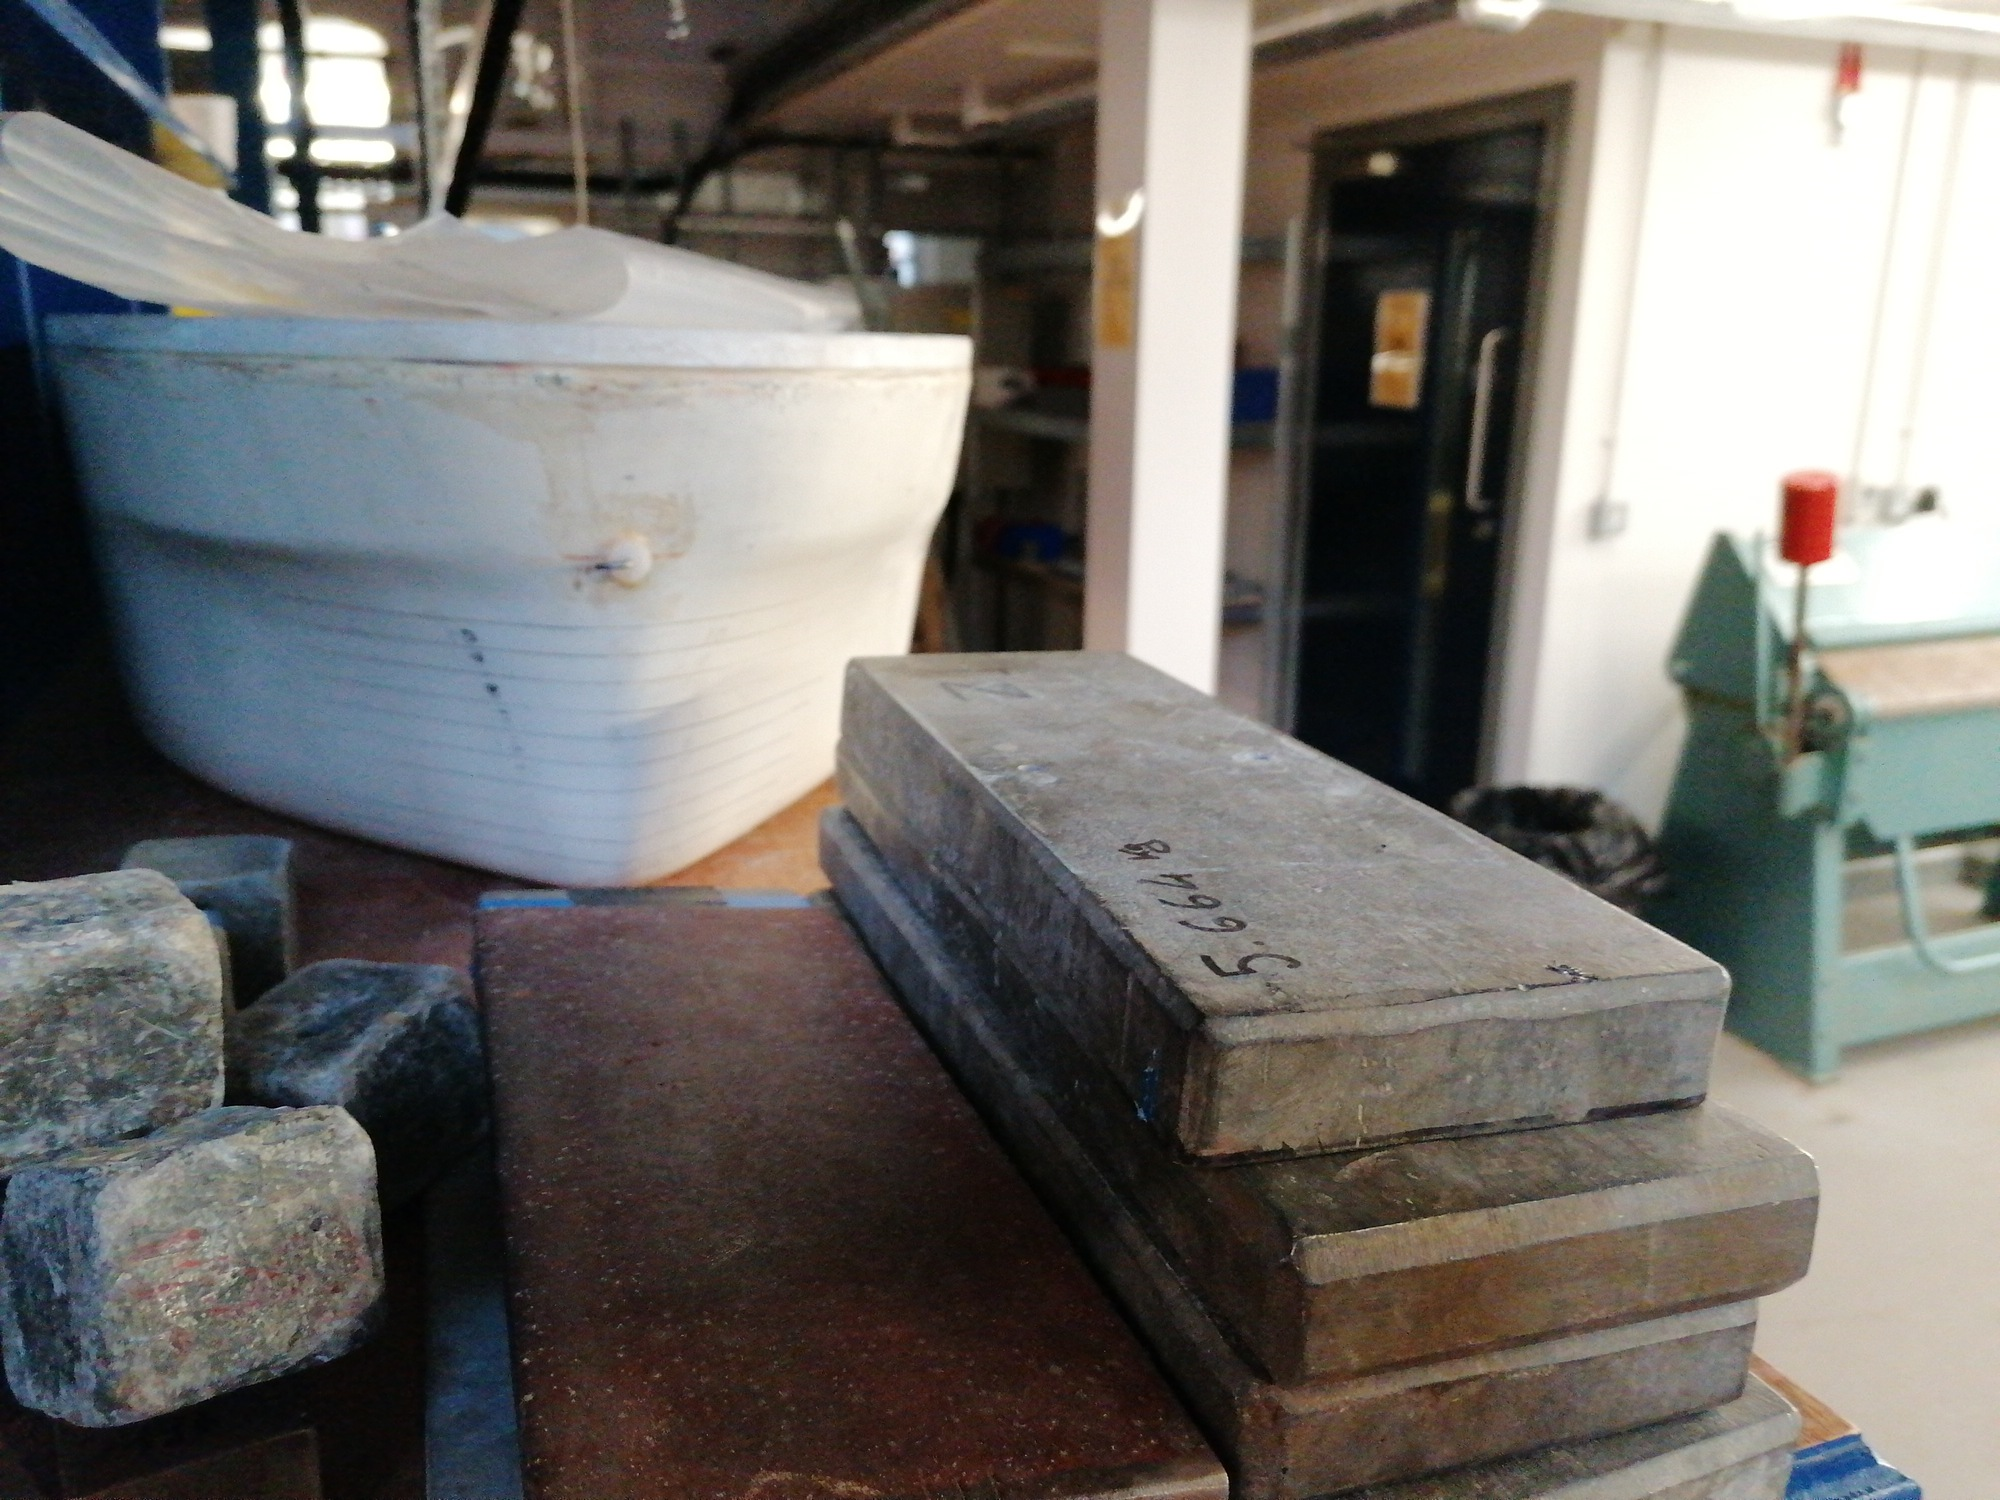lead-block: (836, 695, 1822, 1390), (838, 644, 1735, 1168), (0, 1084, 386, 1428), (0, 868, 231, 1172), (220, 956, 480, 1179), (113, 830, 301, 1008)
